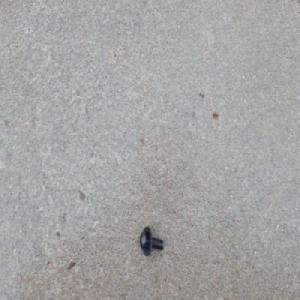BoltWasher: (139, 226, 164, 257)
